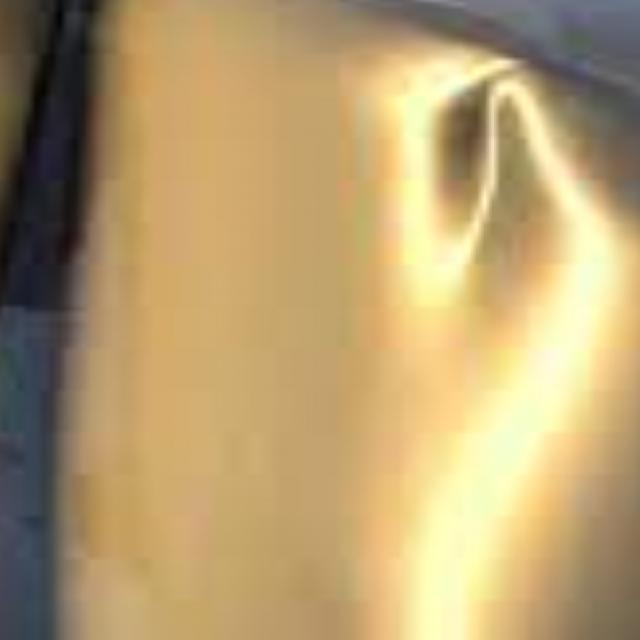dents: (388, 47, 575, 280)
